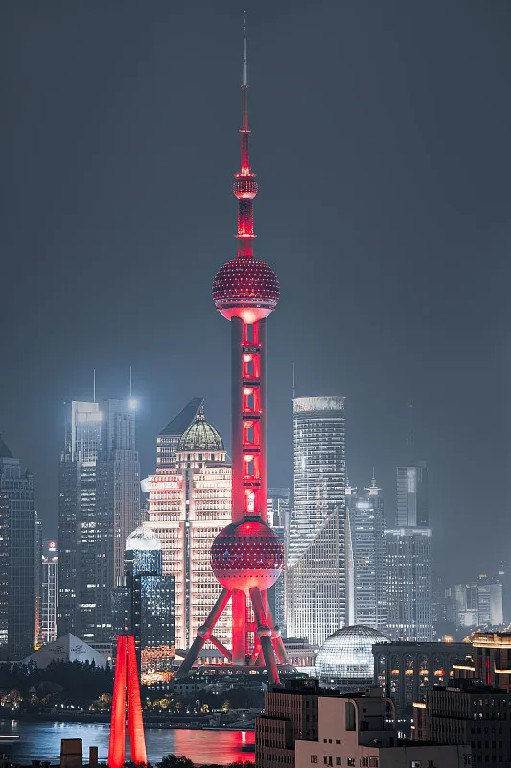Oriental: (175, 10, 288, 682)
